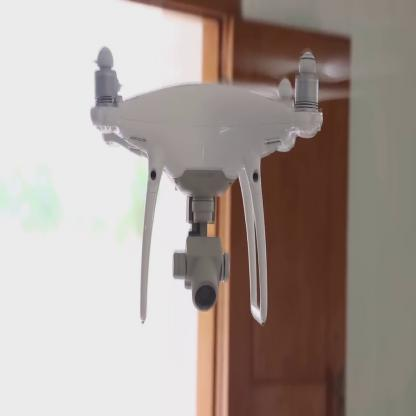drone: (72, 29, 334, 237)
